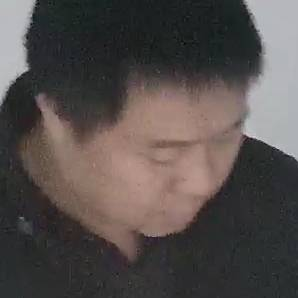cb: (36, 29, 261, 254)
